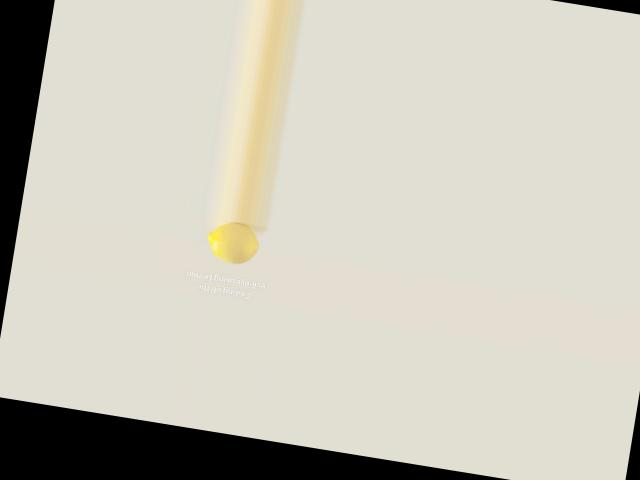lemon: (203, 221, 263, 269)
